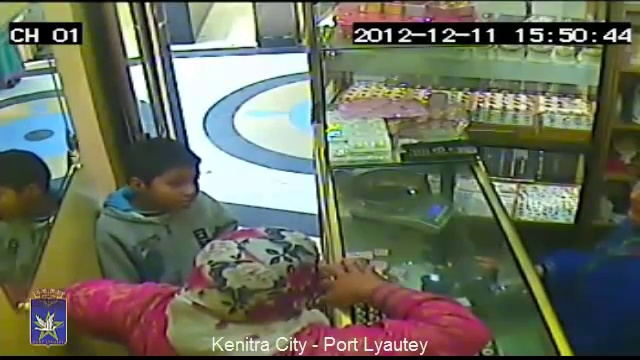face: (152, 157, 203, 206)
